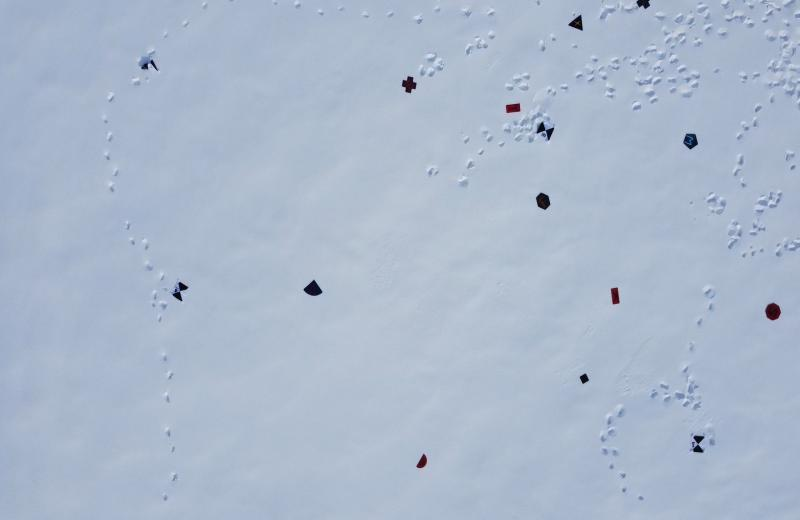Cross: (401, 75, 417, 94), (635, 0, 652, 10)
Hexagon: (535, 192, 551, 210)
Octagon: (765, 302, 781, 321)
Pentagon: (682, 132, 700, 150)
Quarter Circle: (304, 279, 322, 297)
Rectangle: (610, 286, 620, 307), (505, 103, 521, 115)
Semi Circle: (416, 453, 430, 469)
Square: (579, 372, 590, 384)
Triangle: (567, 14, 585, 32)
